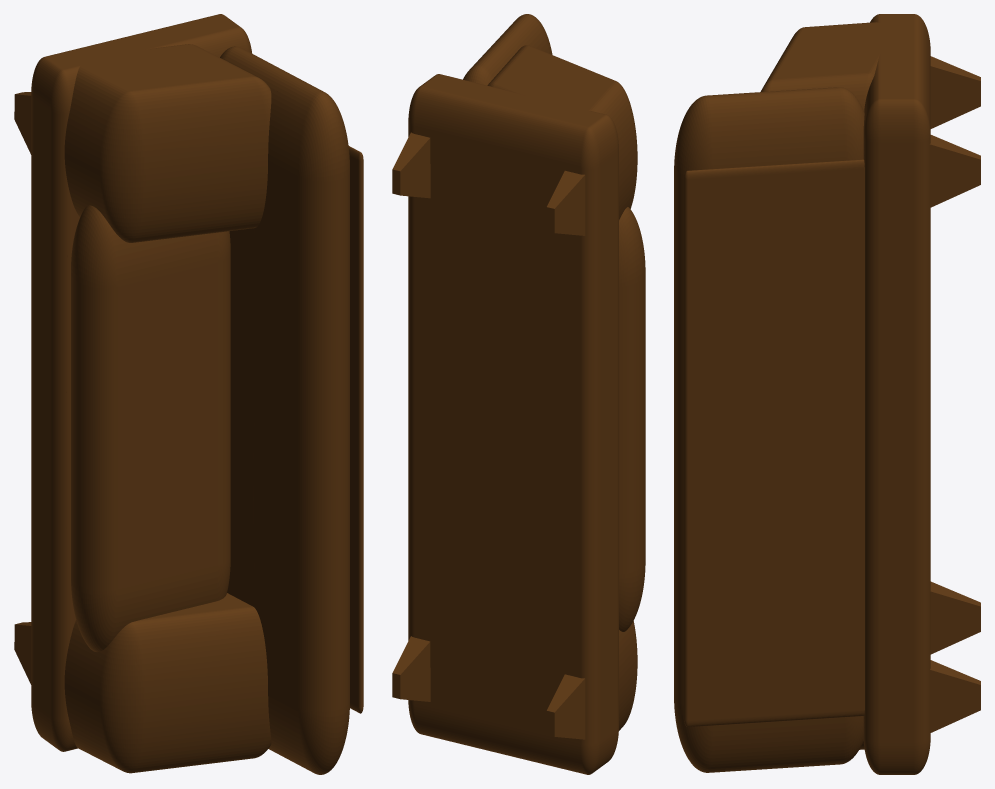
Rendered from Prison_Couch.obj.
The picture shows the model from 3 angles, left to right: view 1: azimuth 30°, elevation 25°; view 2: azimuth 150°, elevation 25°; view 3: azimuth 270°, elevation 25°; orthographic projection. The views are drawn at different scales.
Visible parts, largest first — view 1: obj_0; view 2: obj_0; view 3: obj_0.
Boxes of the visible parts, bbox=[...] form: obj_0: bbox=[14, 14, 363, 774]; obj_0: bbox=[392, 14, 645, 774]; obj_0: bbox=[674, 14, 980, 774].
Bounding box in the file's own units: 5.61 × 17 × 7.
